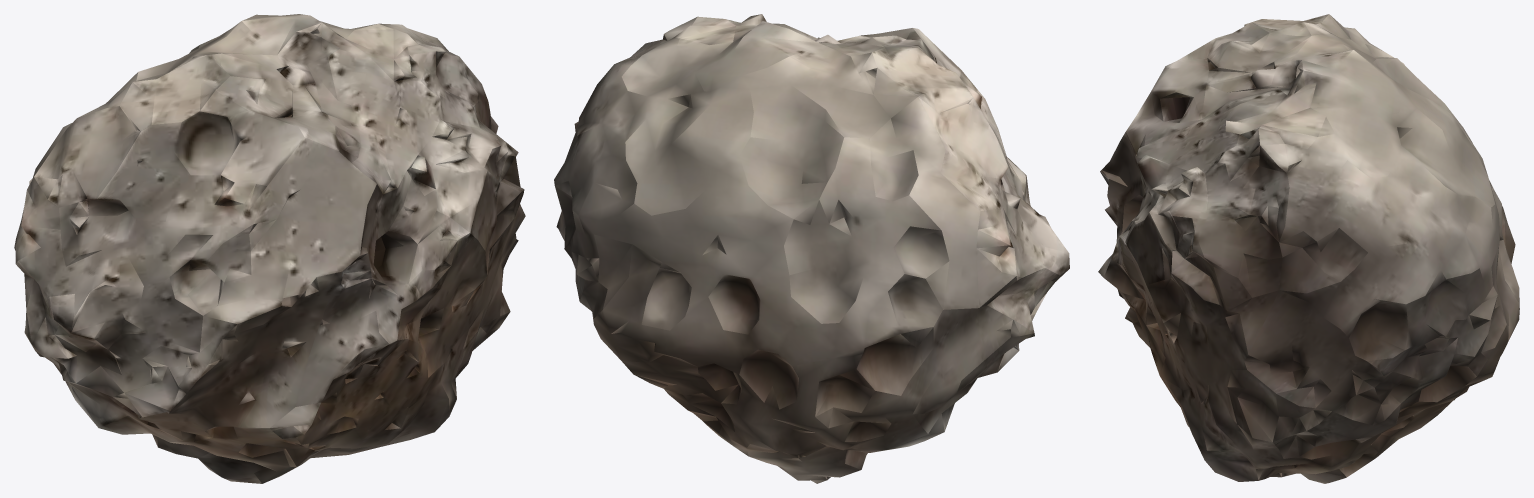
Rendered from m2Asteroid.glb.
3 views of the same model, side by side, from view 1: azimuth 30°, elevation 25°; view 2: azimuth 150°, elevation 25°; view 3: azimuth 270°, elevation 25° (orthographic). The views are drawn at different scales.
Parts seen in each view (by area): view 1: model; view 2: model; view 3: model.
Part boxes in pixels (x1,y1,x2,y2): model: (14, 14, 525, 483); model: (554, 14, 1069, 483); model: (1098, 14, 1519, 483).
Bounding box in the file's own units: 1.9 × 1.74 × 1.55.
Materials: 1 (1 with a texture image).
